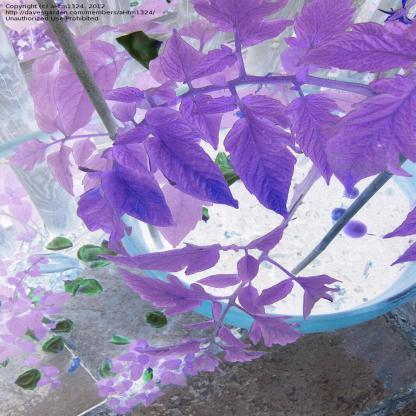Tomato leaf yellow virus: (148, 122, 246, 222), (94, 152, 185, 246), (226, 108, 300, 217), (276, 90, 355, 191), (276, 23, 415, 73), (185, 41, 252, 83)
